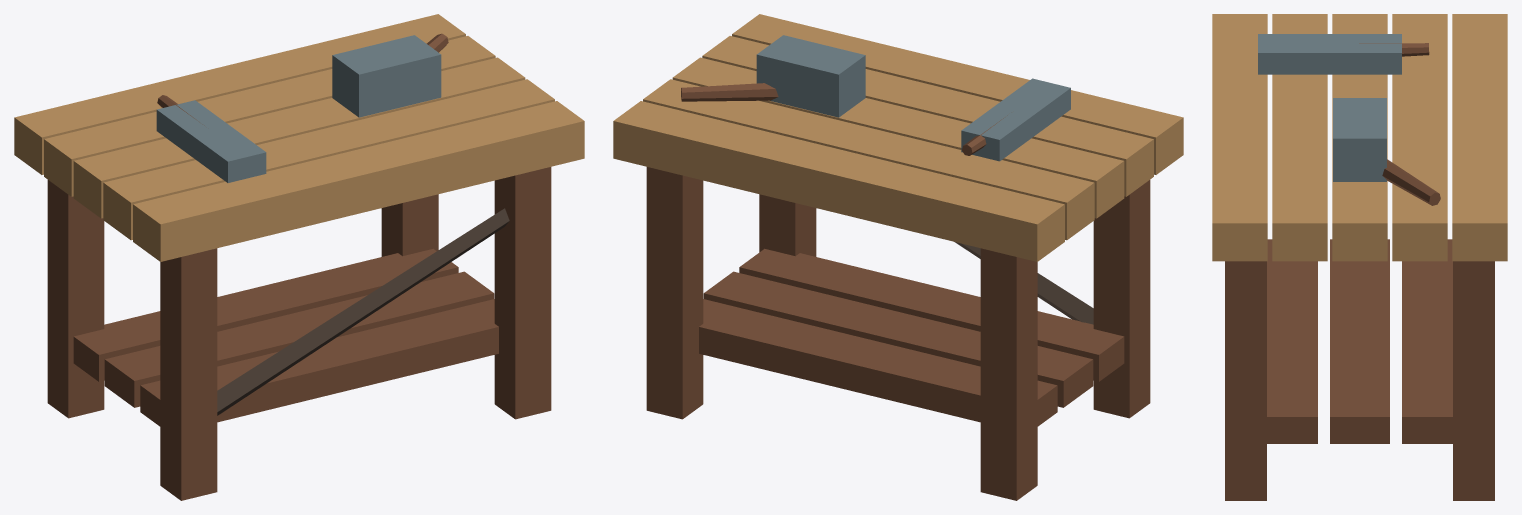
File: workbench.glb
3 views of the same model, side by side, from view 1: azimuth 30°, elevation 25°; view 2: azimuth 150°, elevation 25°; view 3: azimuth 270°, elevation 25° (orthographic).
Visible parts, largest first — view 1: workbench; view 2: workbench; view 3: workbench.
Boxes of the visible parts, x1=… form: workbench: x1=14, y1=14, x2=584, y2=500; workbench: x1=613, y1=14, x2=1183, y2=500; workbench: x1=1212, y1=14, x2=1507, y2=500.
Size of the model in its own units: 1.65 by 1.23 by 0.985.
